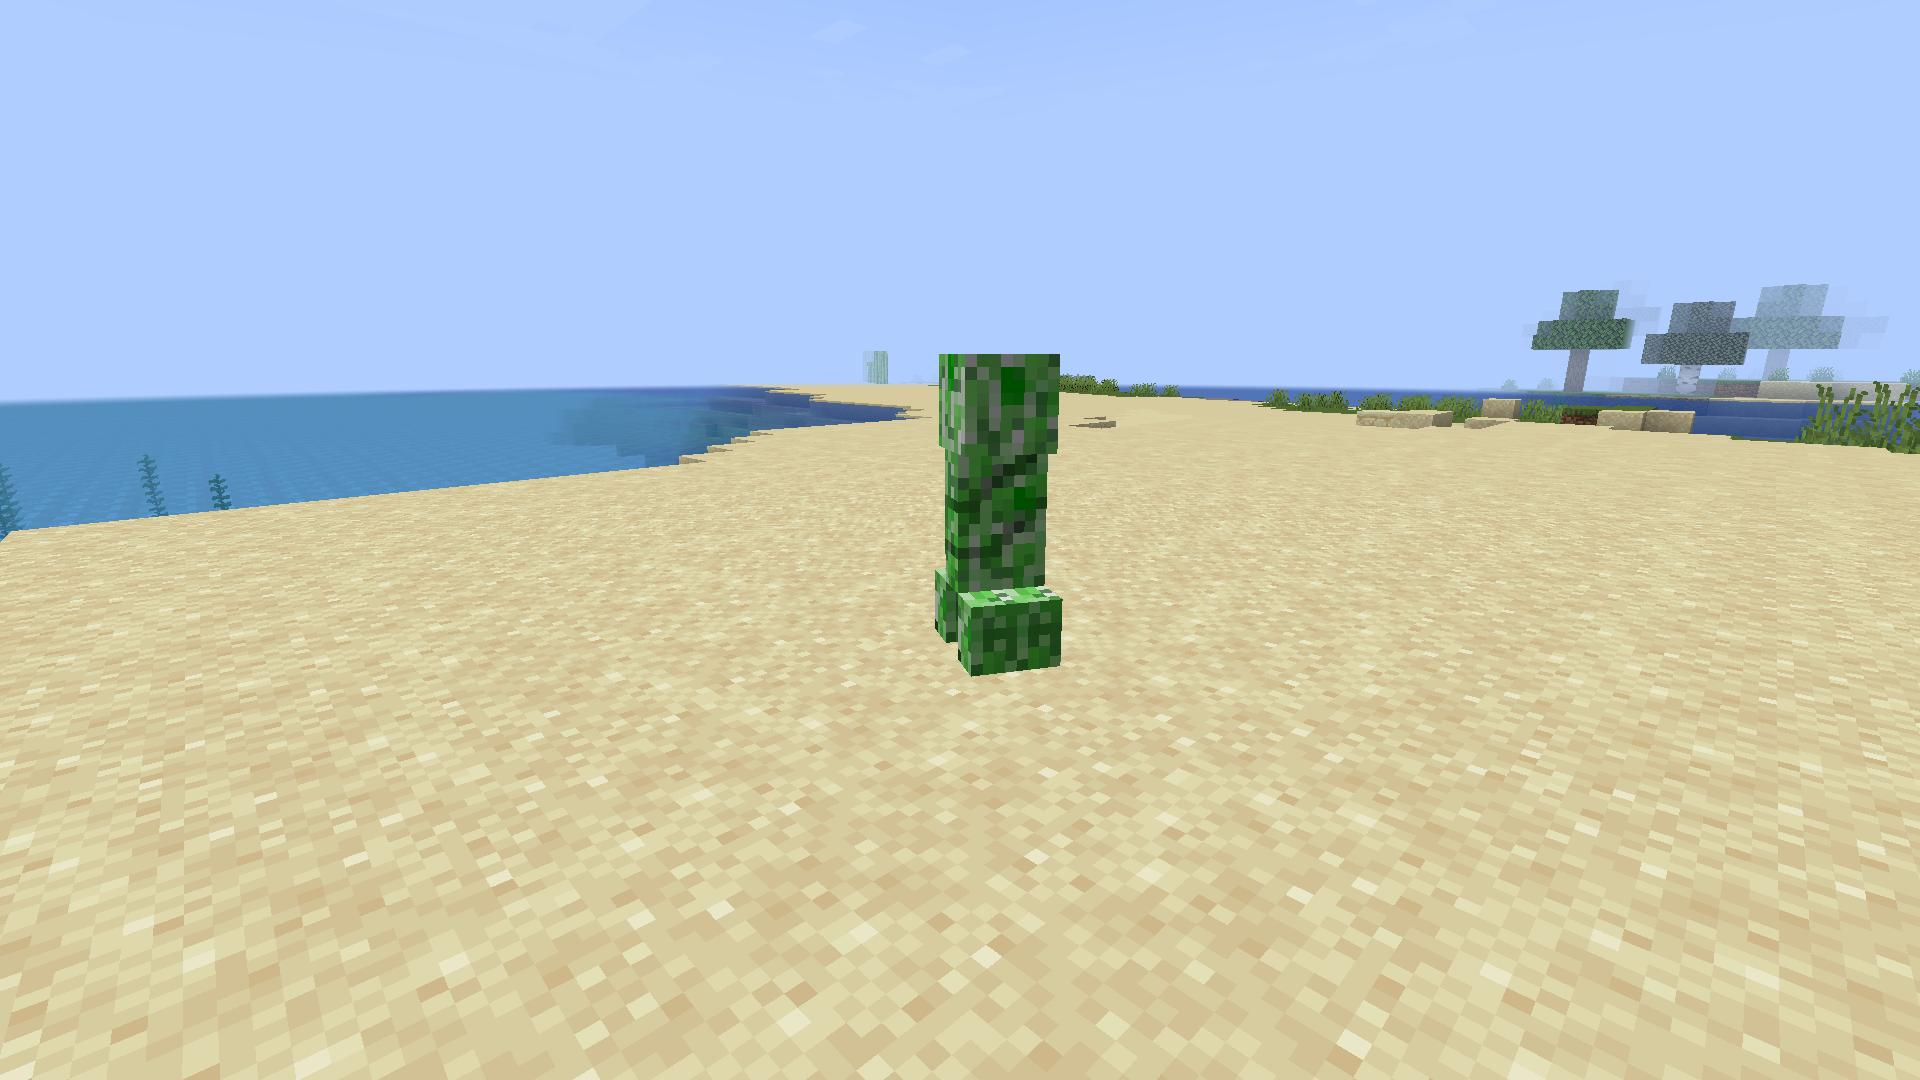creeper: (924, 340, 1075, 679)
